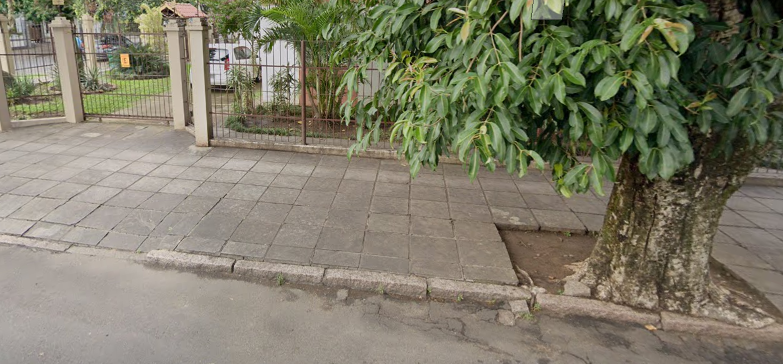vag3: (142, 209, 774, 364)
